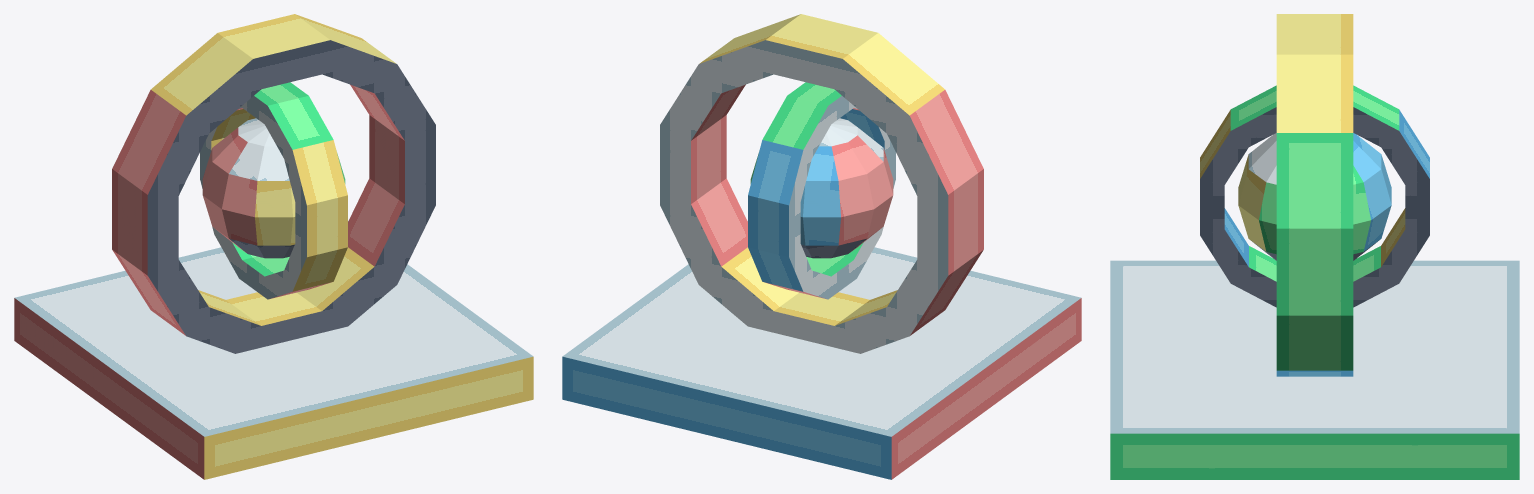
The model's file is gyroscope.gltf.
The picture shows the model from 3 angles, left to right: view 1: azimuth 30°, elevation 25°; view 2: azimuth 150°, elevation 25°; view 3: azimuth 270°, elevation 25°; orthographic projection. The views are drawn at different scales.
Visible parts, largest first — view 1: base, outer, inner, sphere; view 2: base, outer, inner, sphere; view 3: base, outer, inner, sphere.
Part boxes in pixels (x1,y1,x2,y2): base: [14, 221, 533, 479]; outer: [112, 14, 435, 353]; inner: [200, 82, 347, 299]; sphere: [202, 118, 345, 258]; base: [562, 221, 1081, 479]; outer: [660, 14, 983, 353]; inner: [748, 82, 895, 299]; sphere: [750, 118, 893, 258]; base: [1110, 260, 1519, 479]; outer: [1276, 14, 1353, 376]; inner: [1200, 85, 1429, 307]; sphere: [1238, 133, 1391, 260].
Bounding box in the file's own units: 1 × 0.9688 × 1.
1 material, 1 textured.
